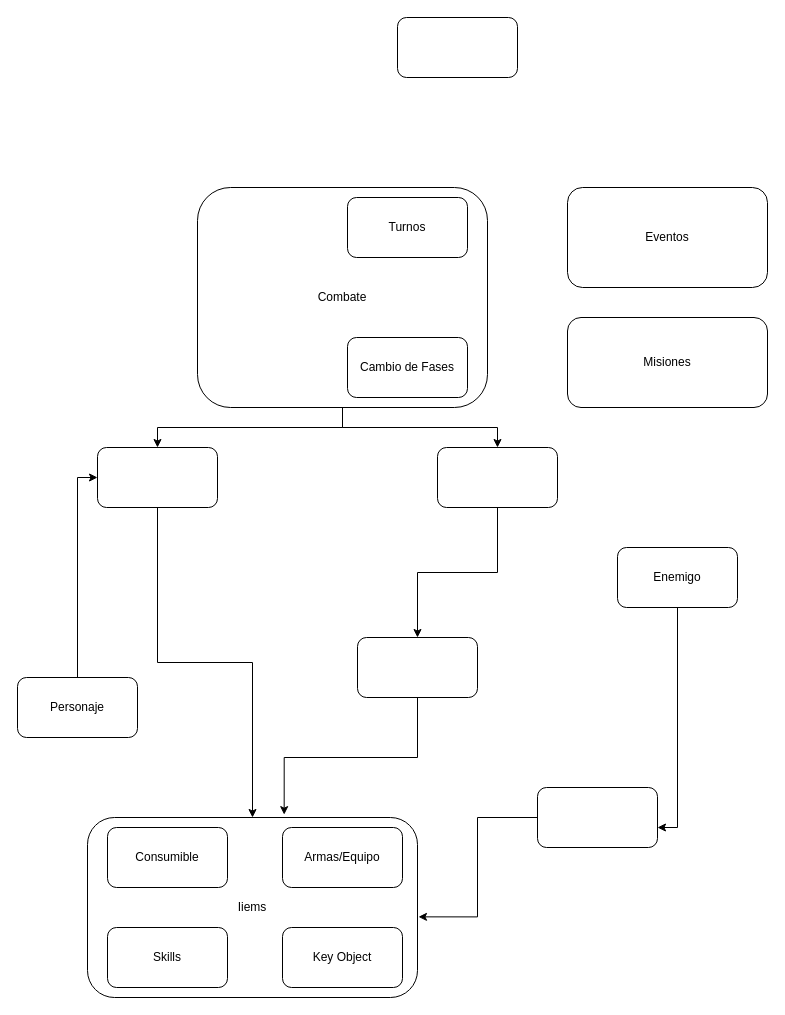
Image size: 785x1015. Some labels were removed from this diagram. Each missing label, with the centre of its shape:
"Gear Menu" belongs at (x=157, y=477).
"Inventario" belongs at (x=497, y=477).
"Loot" belongs at (x=597, y=817).
"Nivel" belongs at (x=457, y=47).
"Tienda" belongs at (x=417, y=667).
